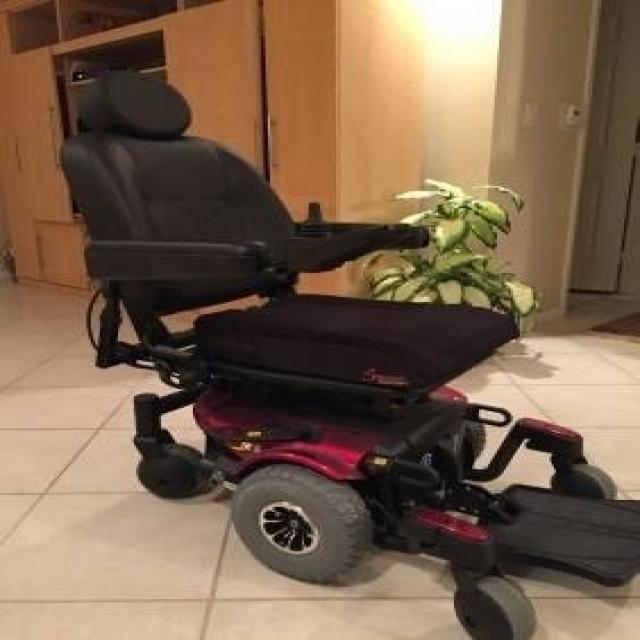wheelchair: (36, 34, 640, 634)
